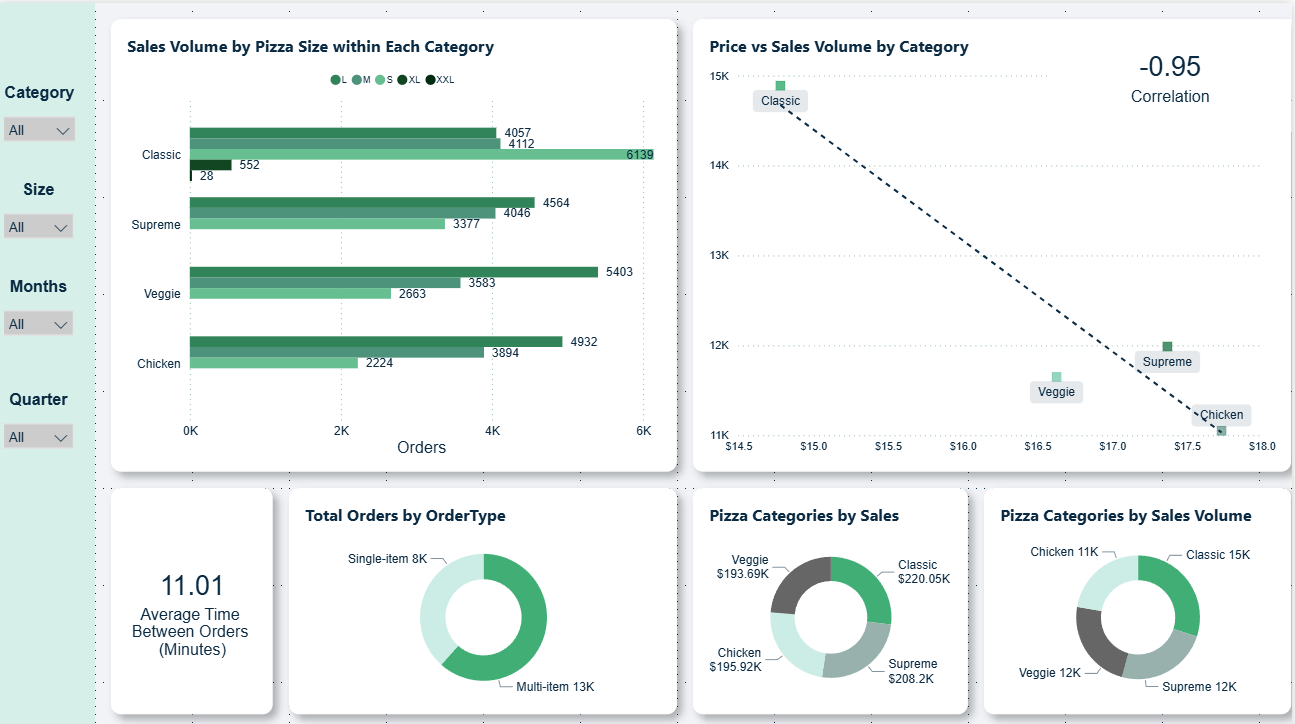

This screenshot's page, from the dashboard's own definition file:
{"tool":"powerbi","page":{"name":"Operational & Product Anlysis","canvas":[1280,720],"ordinal":1},"visuals":[{"type":"shape","box":[0,0,96,720],"z":0,"group":"g1"},{"type":"clusteredBarChart","title":"Sales Volume by Pizza Size within Each Category","fields":{"Category":["Pizza_Sales.category"],"Y":["Measure.Total Quantity Sold"],"Series":["Pizza_Sales.size"]},"box":[112,16,560,448],"z":0},{"type":"scatterChart","title":"Price vs Sales Volume by Category","fields":{"X":["Measure.Average Pizza Price"],"Category":["Pizza_Sales.category"],"Y":["Measure.Total Quantity Sold"]},"box":[688,16,592,448],"z":1000,"group":"g2"},{"type":"slicer","title":"Category","fields":{"Values":["DimPizza.category"]},"box":[0,80,82.3,64],"z":1000,"group":"g1"},{"type":"card","fields":{"Values":["Measure.Average Time Between Orders (Minutes)"]},"box":[112,480,160,224],"z":1000},{"type":"slicer","title":"Months","fields":{"Values":["Dim_Date.Month Name"]},"box":[0,272,80,80],"z":2000,"group":"g1"},{"type":"donutChart","fields":{"Category":["Pizza_Sales.OrderType"],"Y":["Measure.Total Orders"]},"box":[288,480,384,224],"z":2000},{"type":"group","id":"g1","title":"Group 1","box":[0,0,96,720],"z":3000},{"type":"slicer","title":"Quarter","fields":{"Values":["Dim_Date.Quater"]},"box":[0,384,80,128],"z":3000,"group":"g1"},{"type":"slicer","title":"Size","fields":{"Values":["DimPizza.size"]},"box":[0,176,80,64],"z":4000,"group":"g1"},{"type":"donutChart","title":"Pizza Categories by Sales Volume","fields":{"Category":["Pizza_Sales.category"],"Y":["Measure.Total Quantity Sold"]},"box":[976,480,304,224],"z":4000},{"type":"donutChart","title":"Pizza Categories by Sales","fields":{"Category":["Pizza_Sales.category"],"Y":["Measure.Total Revenue"]},"box":[688,480,272,224],"z":5000},{"type":"group","id":"g2","title":"Group 2","box":[688,16,592,448],"z":6002},{"type":"card","fields":{"Values":["Measure.Correlation"]},"box":[1040,16,240,112],"z":6501,"group":"g2"}]}

Visuals, with their boxes in screenshot pixels (x1, y1, x2, y2), scaled from the page's 1280x720 canvas onto the 1295x724 screenshot:
shape: [x1=0, y1=0, x2=97, y2=723]
"Sales Volume by Pizza Size within Each Category" clusteredBarChart: [x1=113, y1=16, x2=680, y2=467]
"Price vs Sales Volume by Category" scatterChart: [x1=696, y1=16, x2=1294, y2=467]
"Category" slicer: [x1=0, y1=80, x2=83, y2=145]
card - Measure.Average Time Between Orders (Minutes): [x1=113, y1=483, x2=275, y2=708]
"Months" slicer: [x1=0, y1=274, x2=81, y2=354]
donutChart - Pizza_Sales.OrderType x Measure.Total Orders: [x1=291, y1=483, x2=680, y2=708]
"Group 1" group: [x1=0, y1=0, x2=97, y2=723]
"Quarter" slicer: [x1=0, y1=386, x2=81, y2=515]
"Size" slicer: [x1=0, y1=177, x2=81, y2=241]
"Pizza Categories by Sales Volume" donutChart: [x1=987, y1=483, x2=1294, y2=708]
"Pizza Categories by Sales" donutChart: [x1=696, y1=483, x2=971, y2=708]
"Group 2" group: [x1=696, y1=16, x2=1294, y2=467]
card - Measure.Correlation: [x1=1052, y1=16, x2=1294, y2=129]
